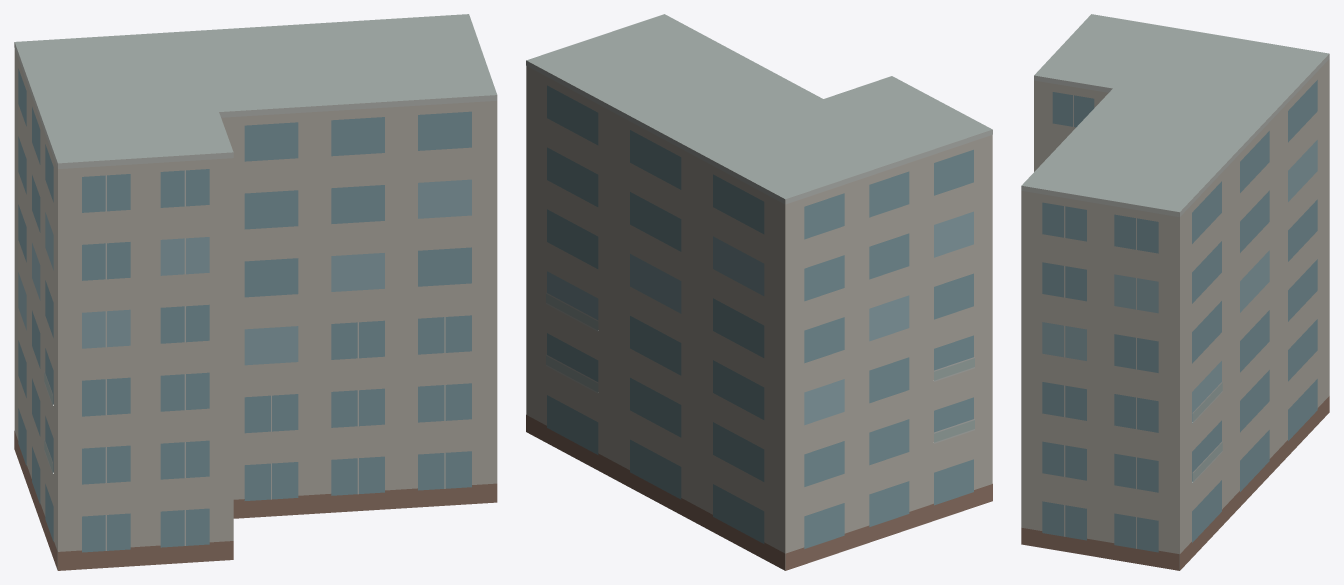
File: survey-upis-32940625.glb
The picture shows the model from 3 angles, left to right: view 1: azimuth 30°, elevation 25°; view 2: azimuth 150°, elevation 25°; view 3: azimuth 270°, elevation 25°; orthographic projection. The views are drawn at different scales.
Visible parts, largest first — view 1: survey-upis-32940625.tmp; view 2: survey-upis-32940625.tmp; view 3: survey-upis-32940625.tmp.
Boxes of the visible parts, box(x1,y1,x2,y2) form: survey-upis-32940625.tmp: box(14, 14, 497, 570); survey-upis-32940625.tmp: box(526, 14, 992, 570); survey-upis-32940625.tmp: box(1021, 14, 1329, 570).
Bounding box in the file's own units: 20.51 × 17.3 × 13.49.
